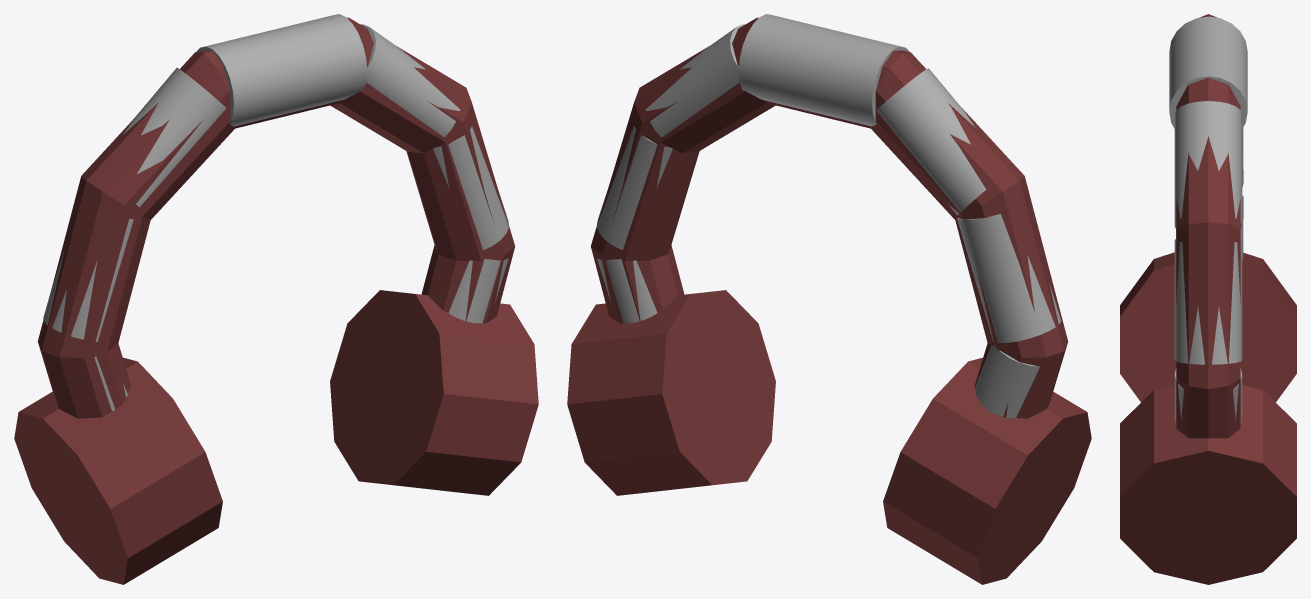
File: headphones.fbx
The picture shows the model from 3 angles, left to right: view 1: azimuth 30°, elevation 25°; view 2: azimuth 150°, elevation 25°; view 3: azimuth 270°, elevation 25°; orthographic projection. The views are drawn at different scales.
Visible parts, largest first — view 1: headband, leftEarcup, rightEarcup, headbandCylinder3, headbandCylinder6, headbandCylinder2, headbandCylinder1, headbandCylinder, headbandCylinder5; view 2: leftEarcup, headband, rightEarcup, headbandCylinder3, headbandCylinder6, headbandCylinder5, headbandCylinder2, headbandCylinder1, headbandCylinder4, headbandCylinder; view 3: leftEarcup, headband, rightEarcup, headbandCylinder3, headbandCylinder2, headbandCylinder1, headbandCylinder.
Boxes of the visible parts, x1,y1,x2,y2 form: headband: [37, 17, 515, 418]; leftEarcup: [330, 290, 538, 495]; rightEarcup: [14, 357, 222, 584]; headbandCylinder3: [196, 14, 367, 126]; headbandCylinder6: [122, 68, 226, 207]; headbandCylinder2: [361, 24, 460, 137]; headbandCylinder1: [433, 126, 508, 250]; headbandCylinder: [448, 259, 508, 323]; headbandCylinder5: [43, 219, 133, 341]; leftEarcup: [567, 290, 775, 495]; headband: [590, 17, 1068, 418]; rightEarcup: [883, 357, 1091, 584]; headbandCylinder3: [738, 14, 909, 126]; headbandCylinder6: [876, 68, 986, 215]; headbandCylinder5: [957, 213, 1061, 342]; headbandCylinder2: [645, 24, 744, 137]; headbandCylinder1: [597, 126, 672, 250]; headbandCylinder4: [975, 345, 1039, 418]; headbandCylinder: [597, 259, 657, 323]; leftEarcup: [1120, 385, 1296, 584]; headband: [1176, 14, 1240, 438]; rightEarcup: [1120, 252, 1296, 402]; headbandCylinder3: [1169, 16, 1247, 128]; headbandCylinder2: [1174, 101, 1242, 229]; headbandCylinder1: [1174, 239, 1242, 364]; headbandCylinder: [1174, 368, 1242, 425].
Size of the model in its own units: 5.95 by 6.07 by 2.11.
